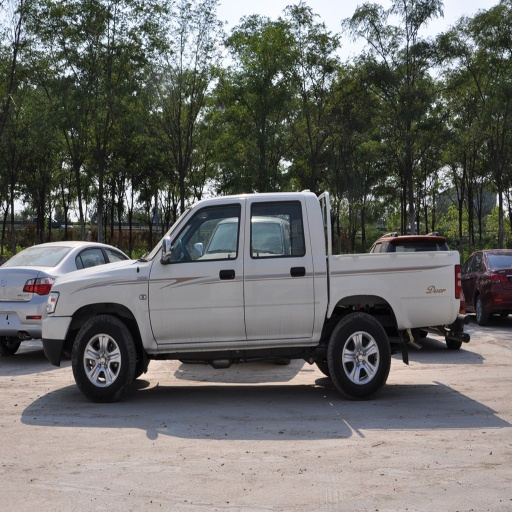back_left_door: (247, 202, 315, 336)
trunk: (312, 253, 460, 343)
